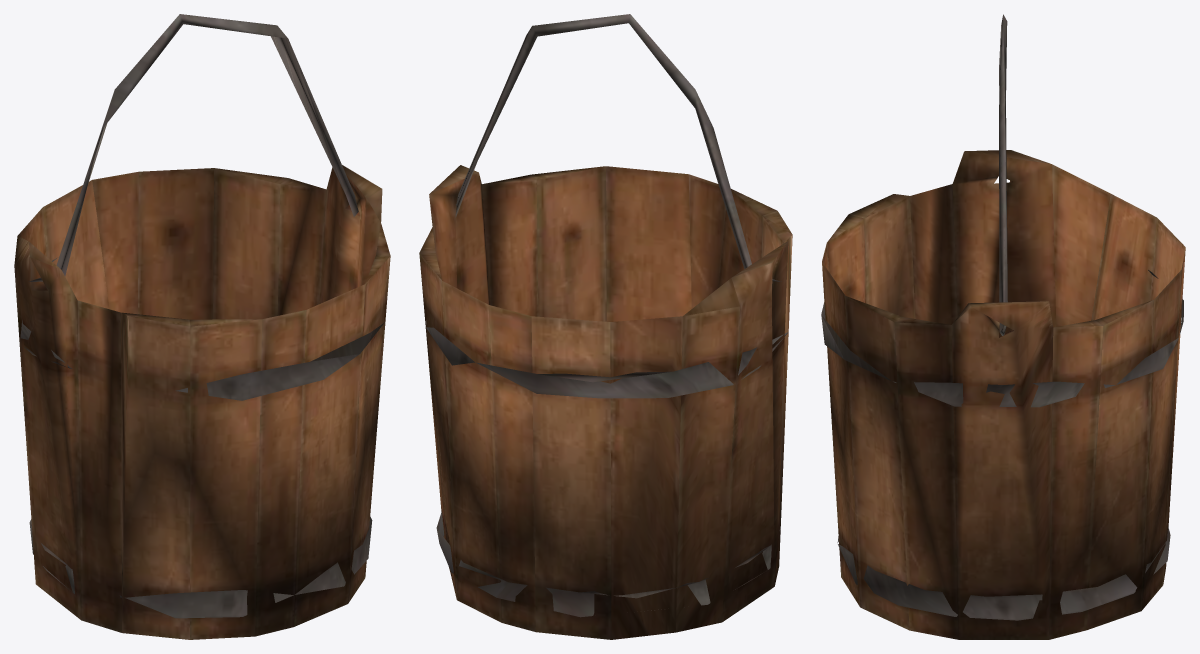
Rendered from bucket.glb.
The picture shows the model from 3 angles, left to right: view 1: azimuth 30°, elevation 25°; view 2: azimuth 150°, elevation 25°; view 3: azimuth 270°, elevation 25°; orthographic projection. The views are drawn at different scales.
Visible parts, largest first — view 1: wooden_bucket_01, wooden_bucket_01_handle; view 2: wooden_bucket_01, wooden_bucket_01_handle; view 3: wooden_bucket_01, wooden_bucket_01_handle.
Part boxes in pixels (x1=…): wooden_bucket_01: x1=14, y1=165, x2=390, y2=639; wooden_bucket_01_handle: x1=29, y1=14, x2=358, y2=281; wooden_bucket_01: x1=419, y1=165, x2=792, y2=639; wooden_bucket_01_handle: x1=455, y1=14, x2=781, y2=281; wooden_bucket_01: x1=821, y1=150, x2=1185, y2=639; wooden_bucket_01_handle: x1=999, y1=14, x2=1007, y2=335.
Bounding box in the file's own units: 0.3556 × 0.555 × 0.3325.
1 material, 1 textured.
